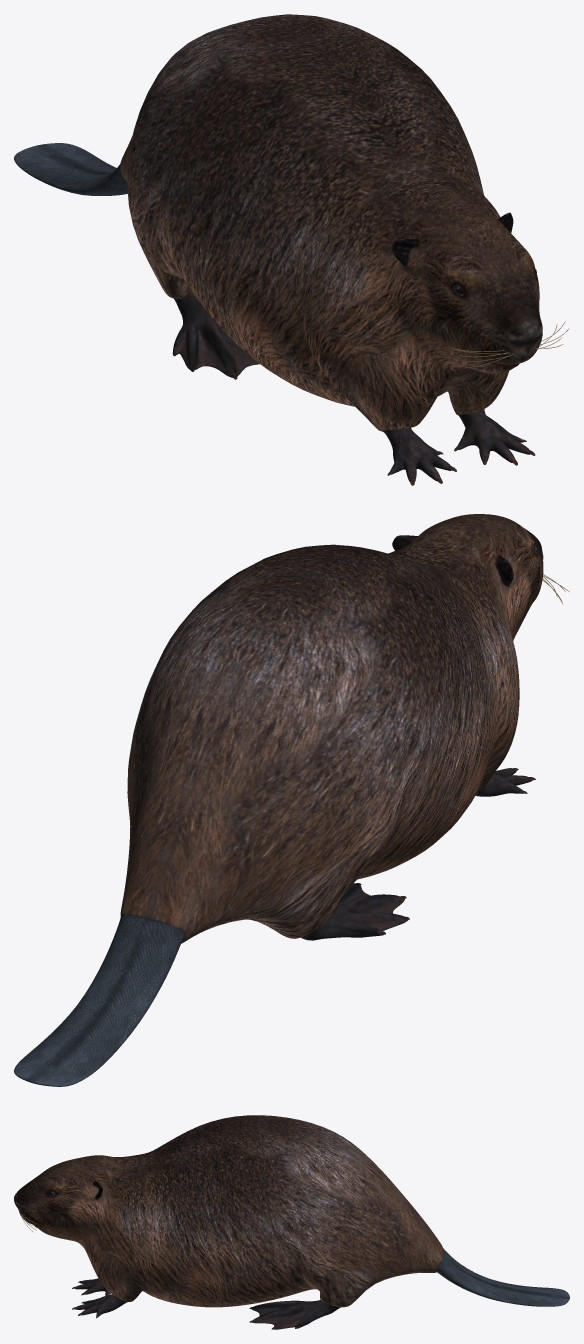
Rendered from beaver.fbx.
3 views of the same model, one above another, from view 1: azimuth 30°, elevation 25°; view 2: azimuth 150°, elevation 25°; view 3: azimuth 270°, elevation 25° (orthographic). The views are drawn at different scales.
Visible parts, largest first — view 1: 13098_NorthAmericanBeaver_v1_l2; view 2: 13098_NorthAmericanBeaver_v1_l2; view 3: 13098_NorthAmericanBeaver_v1_l2.
Part boxes in pixels (bbox=[...]): 13098_NorthAmericanBeaver_v1_l2: bbox=[14, 14, 569, 485]; 13098_NorthAmericanBeaver_v1_l2: bbox=[14, 514, 569, 1086]; 13098_NorthAmericanBeaver_v1_l2: bbox=[14, 1115, 569, 1329].
Bounding box in the file's own units: 6.01 × 6.89 × 19.76.
Materials: 2 (1 with a texture image).
